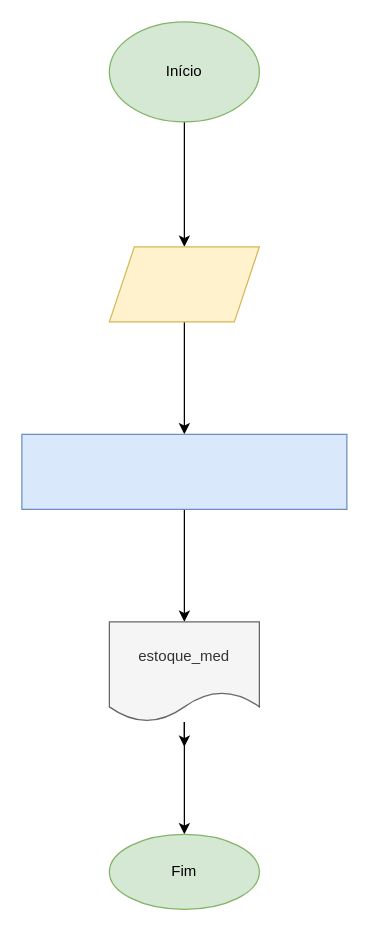
This 369x931 diagram has some shape labels left out. The shapes that lost their labels are listed below. From the top down, each one's centre as x and y in pixels, then its label:
the point at 183,284: qtde_min, qtde_max, estoque_med
the point at 184,471: estoque_med <- (qtde_min+qtde_max)/2
